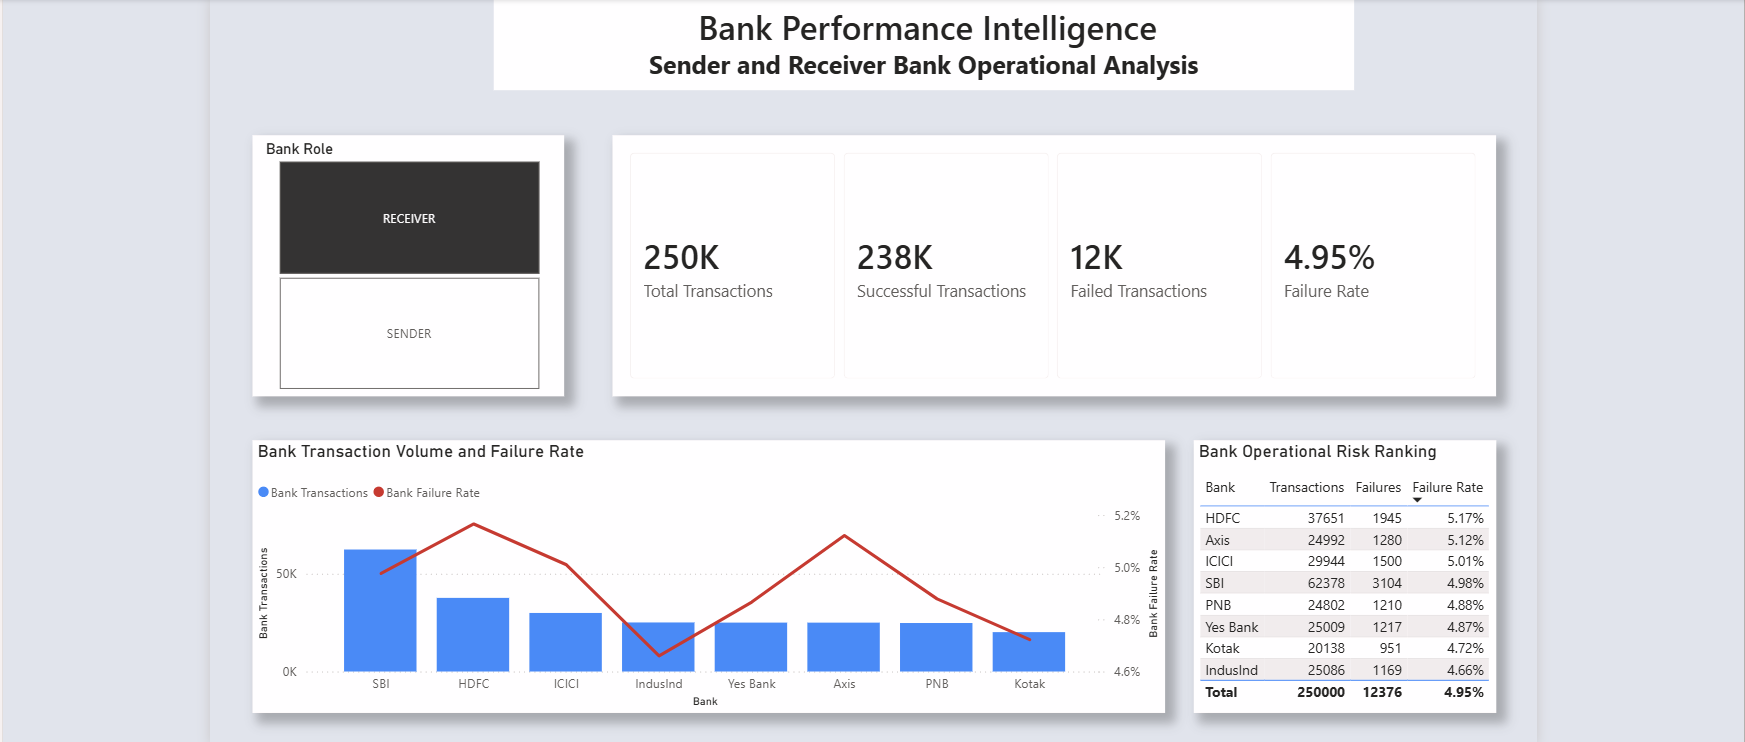

The dashboard page shown, as its layout file describes it:
{"tool":"powerbi","page":{"name":"03 Bank Performance","canvas":[1280,720],"ordinal":2},"visuals":[{"type":"textbox","box":[273.9,0,830,88.1],"z":0},{"type":"slicer","title":"Bank Transaction Volume and Failure Rate","fields":{"Values":["public vw_bank_performance.bank_role"]},"box":[41,131.5,300.4,252.1],"z":1000},{"type":"cardVisual","fields":{"Data":["public vw_bank_performance.Bank Transactions","public vw_bank_performance.Bank Successful Transactions","public vw_bank_performance.Bank Failed Transactions","public vw_bank_performance.Bank Failure Rate"]},"box":[388.5,131.5,853,252.1],"z":2000},{"type":"lineClusteredColumnComboChart","title":"Bank Transaction Volume and Failure Rate","fields":{"Category":["public vw_bank_performance.bank_name"],"Y":["public vw_bank_performance.Bank Transactions"],"Y2":["public vw_bank_performance.Bank Failure Rate"]},"box":[41,425.9,880.7,263],"z":3000},{"type":"tableEx","title":"Bank Operational Risk Ranking","fields":{"Values":["public vw_bank_performance.bank_name","public vw_bank_performance.Bank Transactions","public vw_bank_performance.Bank Failed Transactions","public vw_bank_performance.Bank Failure Rate"]},"box":[949.5,425.9,292,263],"z":4000}]}

Visuals, with their boxes on the page's 1280x720 design canvas (x1, y1, x2, y2). These are canvas units, not pixel positions in the 1745x742 screenshot, which may show the page scaled, cropped or inside an application window:
textbox: [x1=274, y1=0, x2=1104, y2=88]
"Bank Transaction Volume and Failure Rate" slicer: [x1=41, y1=132, x2=341, y2=384]
cardVisual - public vw_bank_performance.Bank Transactions x public vw_bank_performance.Bank Successful Transactions: [x1=388, y1=132, x2=1242, y2=384]
"Bank Transaction Volume and Failure Rate" lineClusteredColumnComboChart: [x1=41, y1=426, x2=922, y2=689]
"Bank Operational Risk Ranking" tableEx: [x1=950, y1=426, x2=1242, y2=689]
